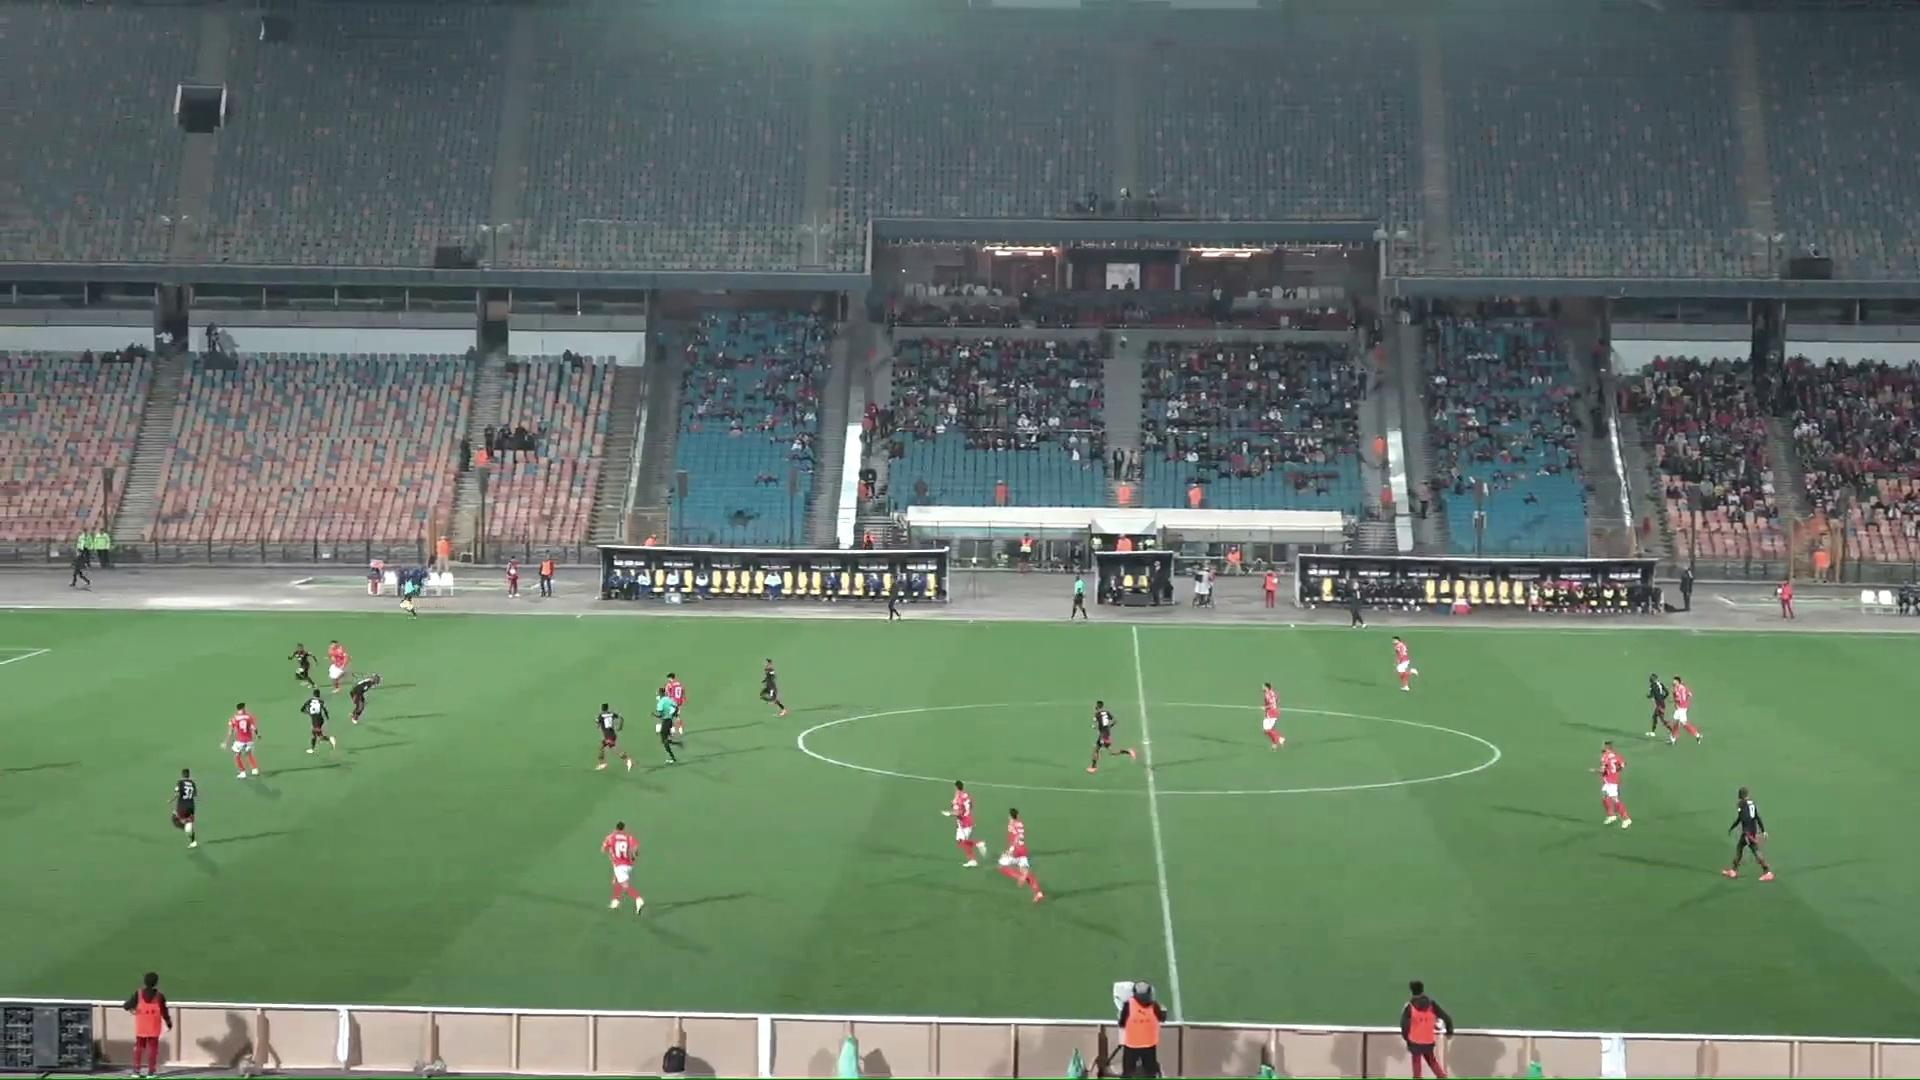Refree: (655, 673, 684, 764), (400, 568, 426, 616), (1067, 567, 1087, 618)
Team1: (997, 808, 1044, 902), (603, 822, 644, 913), (942, 782, 984, 866), (1596, 740, 1631, 828), (220, 703, 260, 778), (1662, 675, 1702, 742), (1261, 682, 1287, 749), (1393, 636, 1419, 692), (324, 640, 355, 688), (657, 673, 687, 713)
Team2: (1722, 787, 1774, 880), (1087, 702, 1137, 771), (596, 703, 634, 769), (301, 683, 336, 752), (171, 769, 199, 847), (1646, 673, 1676, 740), (758, 658, 789, 715), (349, 674, 382, 724), (287, 644, 320, 687)
